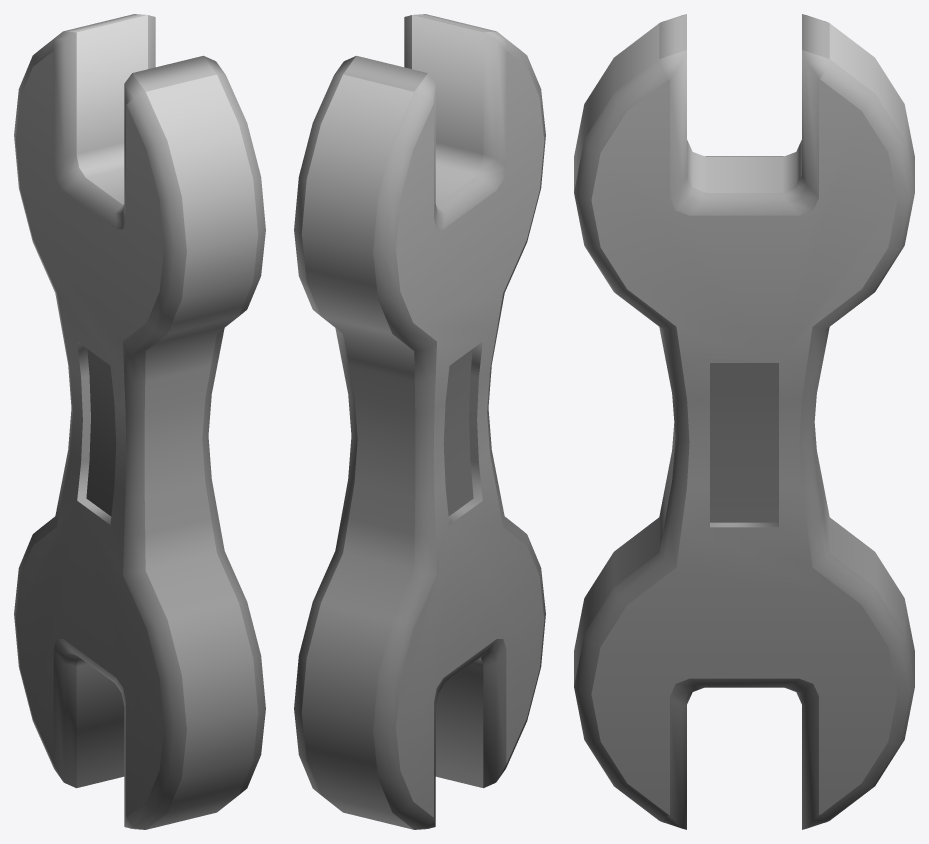
The model's file is Wrench_V1_00.fbx.
3 views of the same model, side by side, from view 1: azimuth 30°, elevation 25°; view 2: azimuth 150°, elevation 25°; view 3: azimuth 270°, elevation 25° (orthographic). The views are drawn at different scales.
Parts seen in each view (by area): view 1: Wrench_V1_00; view 2: Wrench_V1_00; view 3: Wrench_V1_00.
Boxes of the visible parts, <box> form: Wrench_V1_00: <box>14,14,265,829</box>; Wrench_V1_00: <box>294,14,545,829</box>; Wrench_V1_00: <box>574,14,914,829</box>.
Size of the model in its own units: 5.63 by 40.6 by 16.08.
